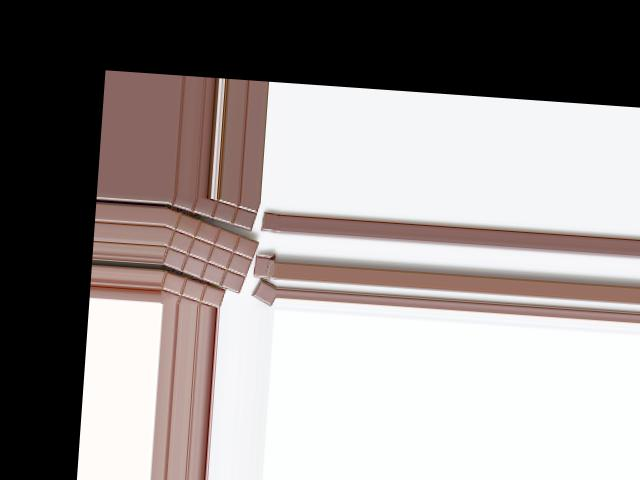chocolate: (160, 210, 259, 296)
